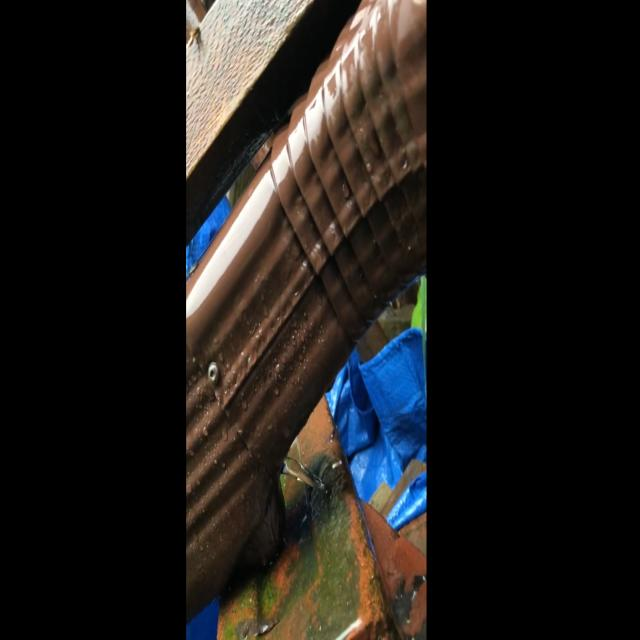leak: (282, 456, 325, 489)
